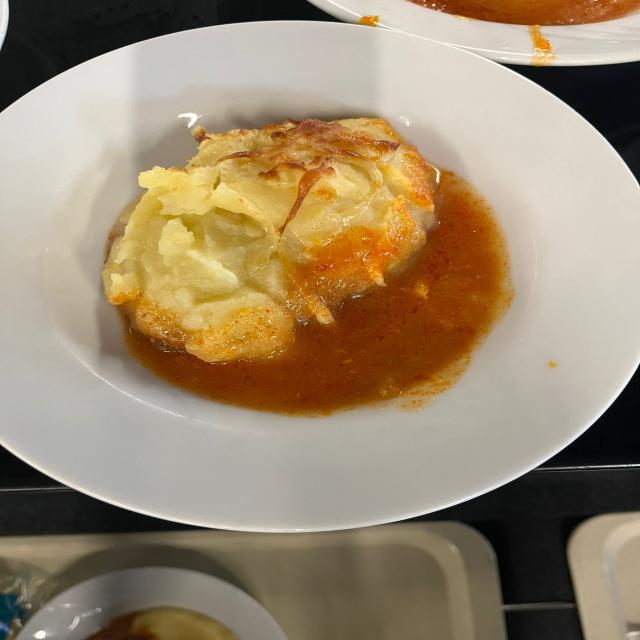corba: (100, 114, 441, 365)
